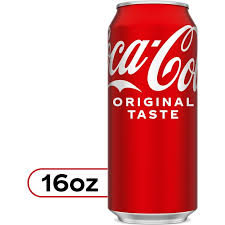can: (107, 2, 198, 225)
